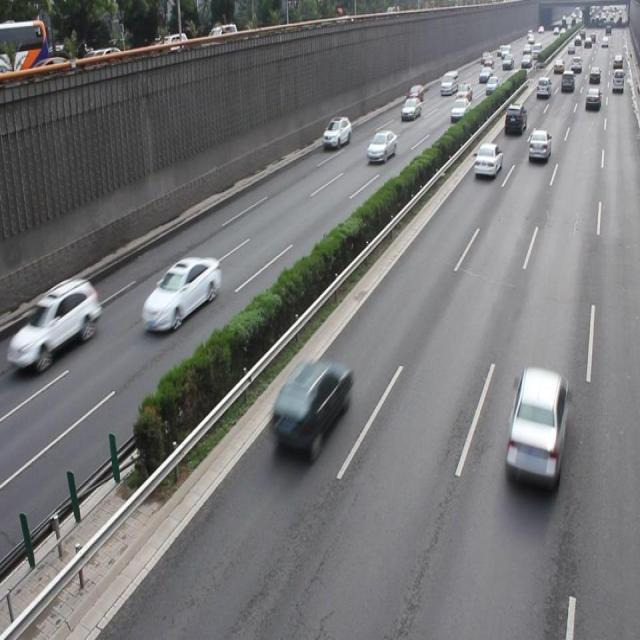car: (1, 274, 102, 370), (272, 357, 354, 457), (504, 363, 564, 481), (142, 254, 222, 334), (365, 129, 397, 164), (473, 142, 502, 177), (527, 128, 550, 160)
